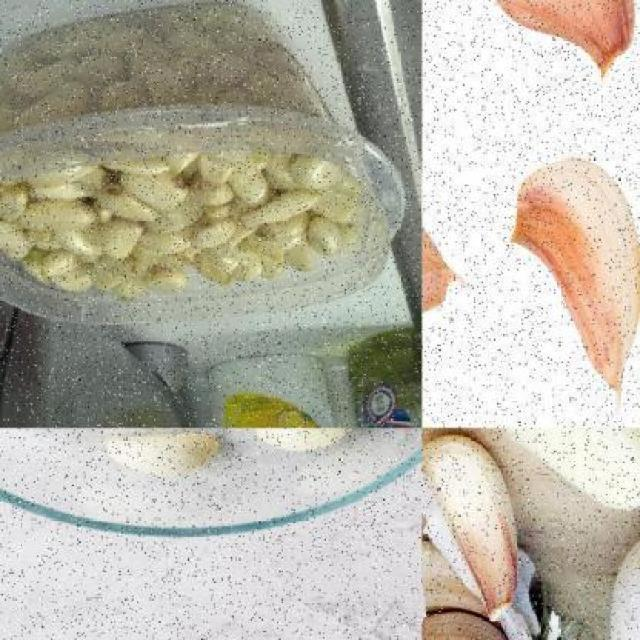garlic: (1, 17, 364, 302), (508, 154, 640, 397), (422, 428, 528, 617), (472, 1, 640, 87), (422, 200, 468, 397), (101, 431, 229, 484), (262, 190, 328, 276), (196, 148, 272, 214), (116, 164, 194, 216), (12, 197, 104, 240), (102, 220, 188, 262)
